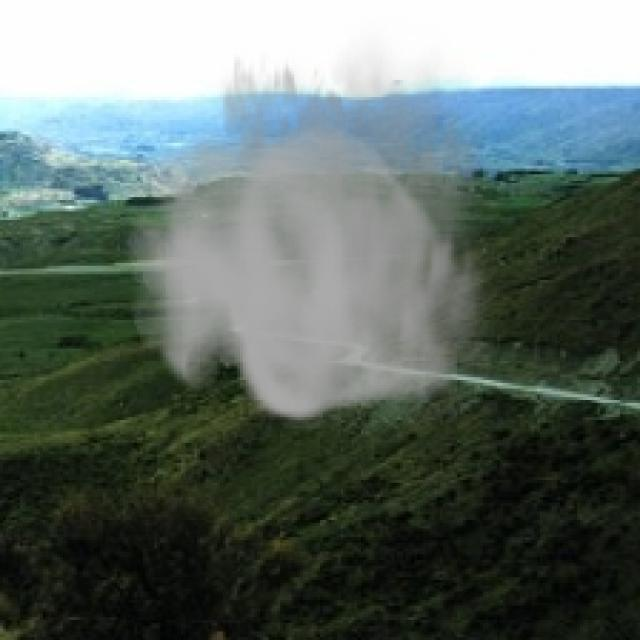Smoke: (126, 17, 508, 429)
